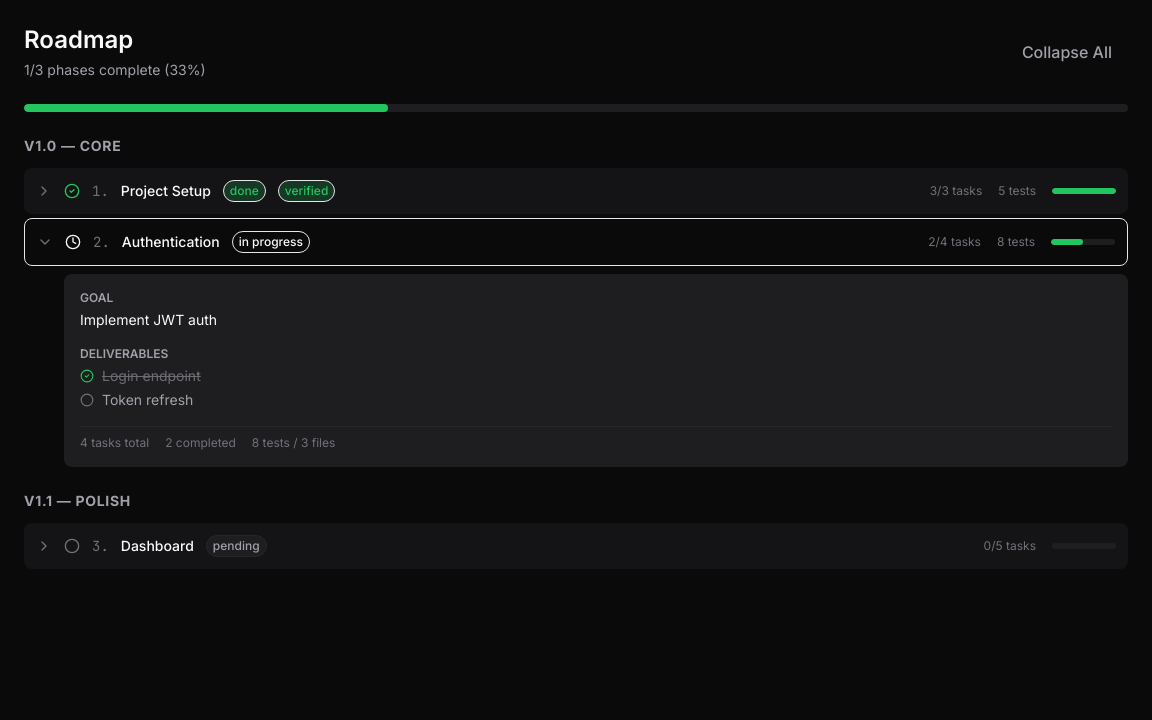
Test: RoadmapPage › collapse all button collapses expanded phases
Click the button with test id "collapse-all-btn": (1067, 52) [1006,32,1128,72]
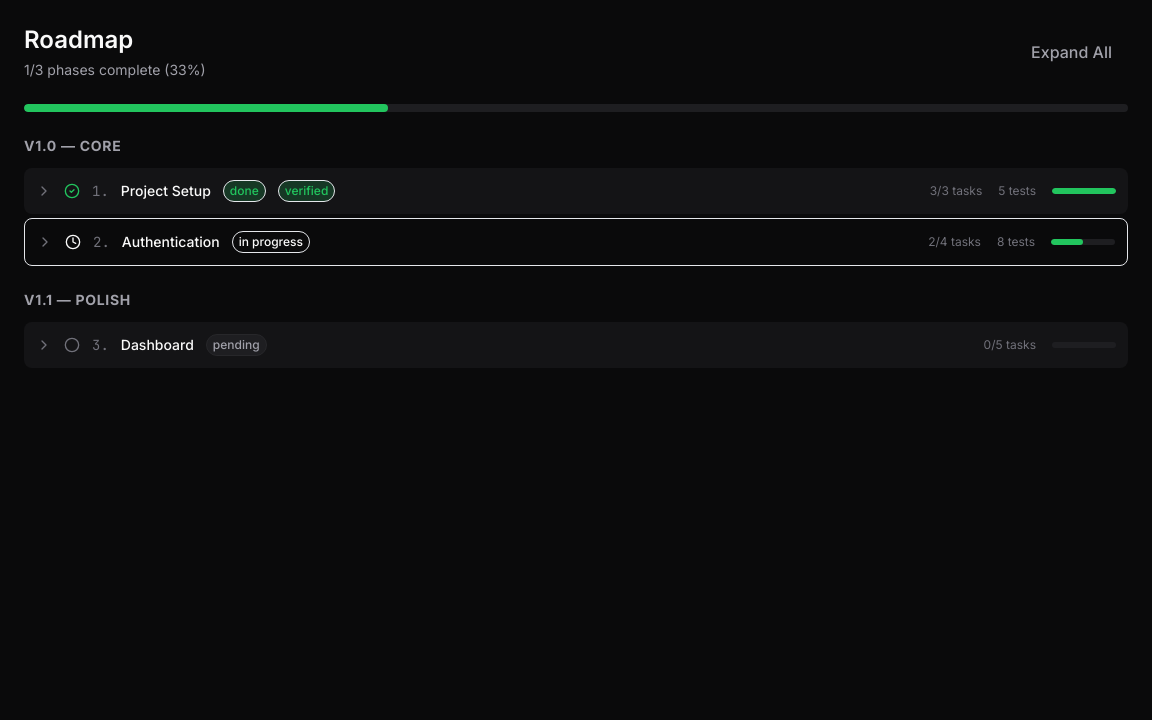
Expected: no elements with test id "phase-detail" are shown
